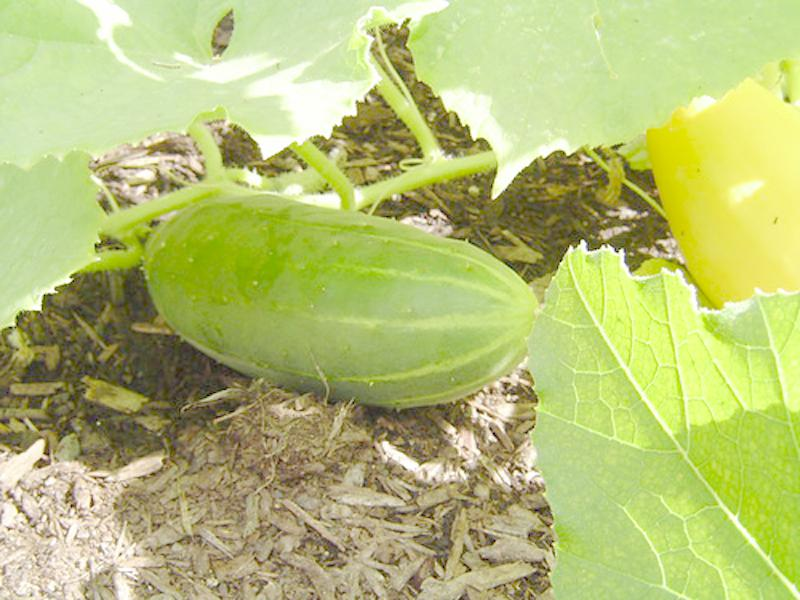Cucumber: (141, 192, 540, 410)
